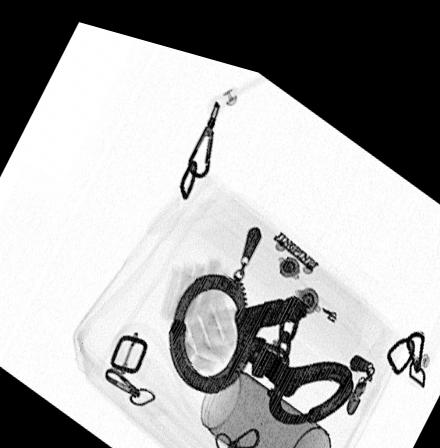HandCuffs: (167, 257, 354, 409)
